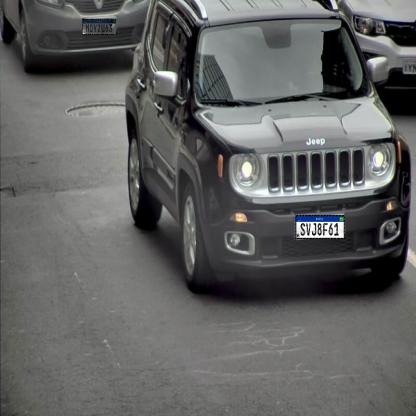PlacaM: (295, 215, 345, 239), (82, 18, 117, 34)
